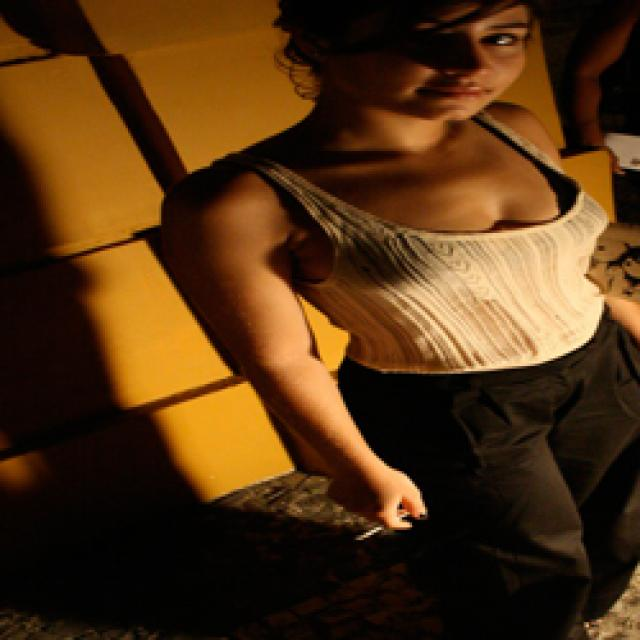Smooking: (352, 507, 416, 556)
